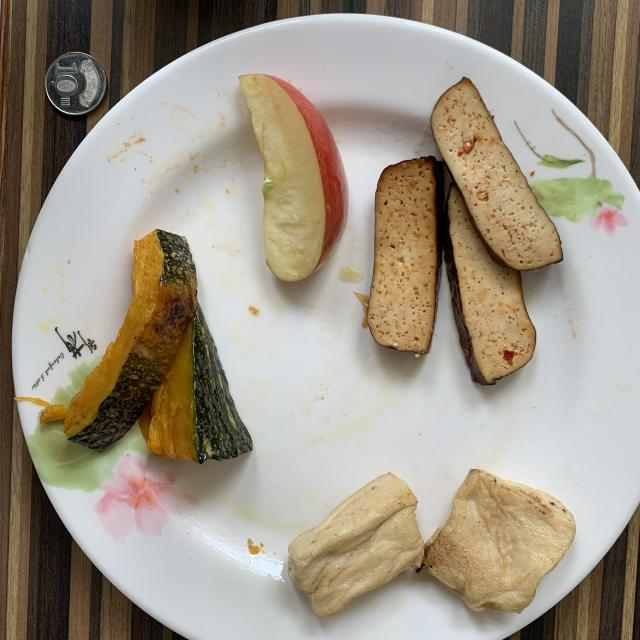apple -sliced-: (239, 74, 348, 281)
coin: (45, 52, 106, 115)
creamy tofu -without sauce-: (288, 470, 575, 616)
firm tofu: (368, 79, 562, 385)
pumpkin: (40, 230, 251, 462)
